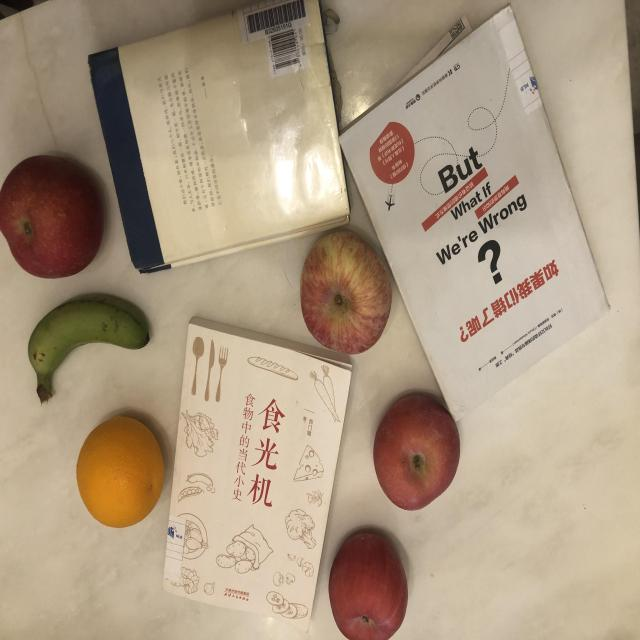Apple: (367, 382, 480, 540), (0, 144, 110, 305), (292, 221, 402, 364), (313, 498, 416, 640)
Banana: (24, 282, 172, 406)
Book: (325, 0, 640, 424), (66, 0, 409, 272), (146, 304, 377, 640)
Orange: (67, 398, 181, 544)
